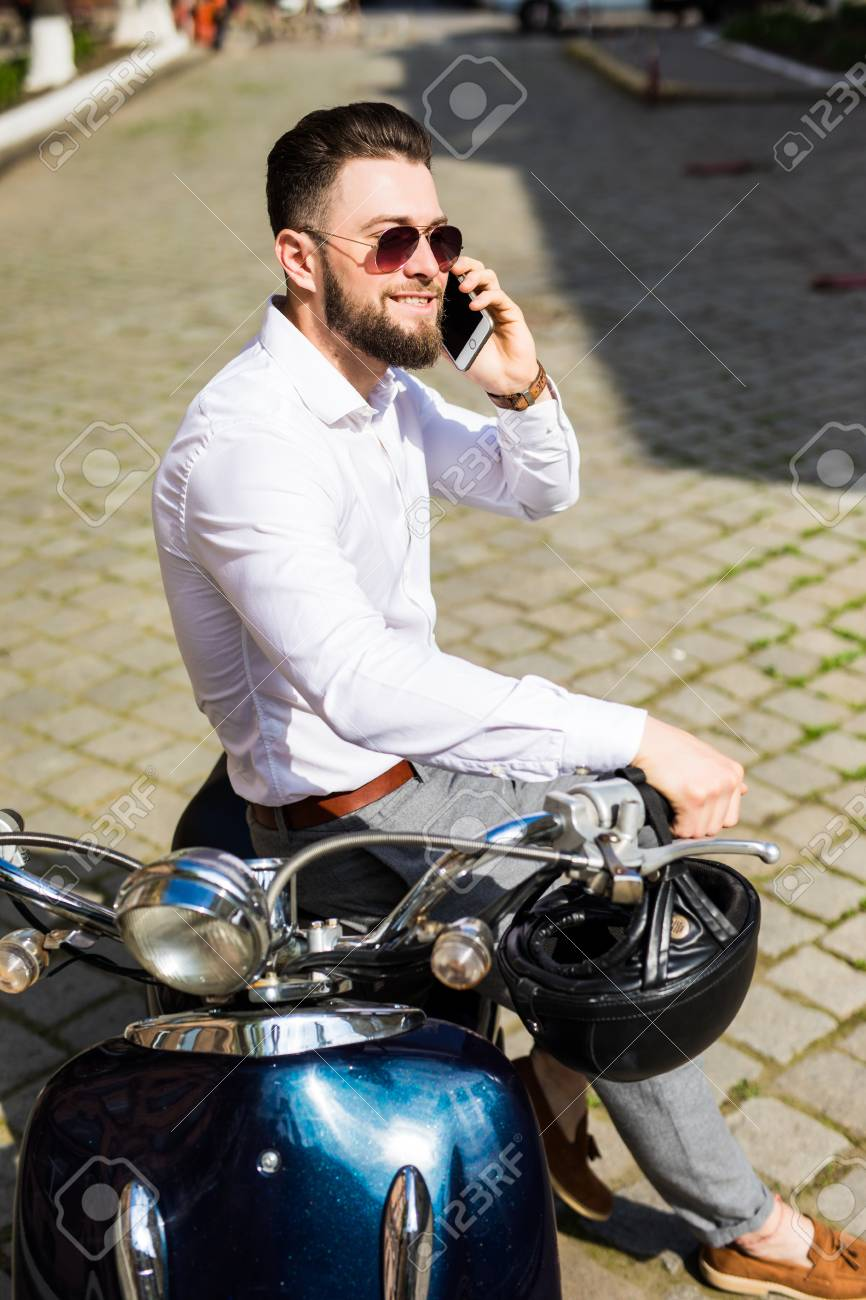su dung dien thoai: (268, 99, 548, 426)
